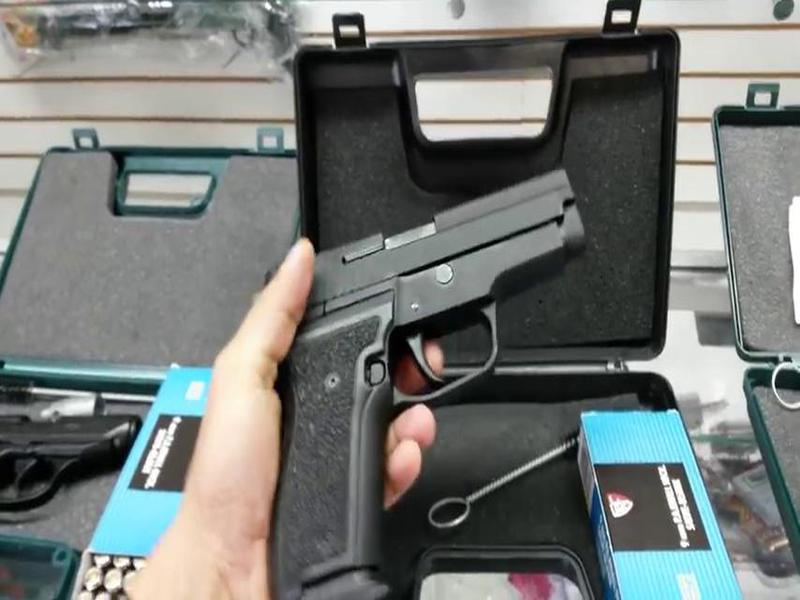Pistola: (238, 159, 592, 600)
